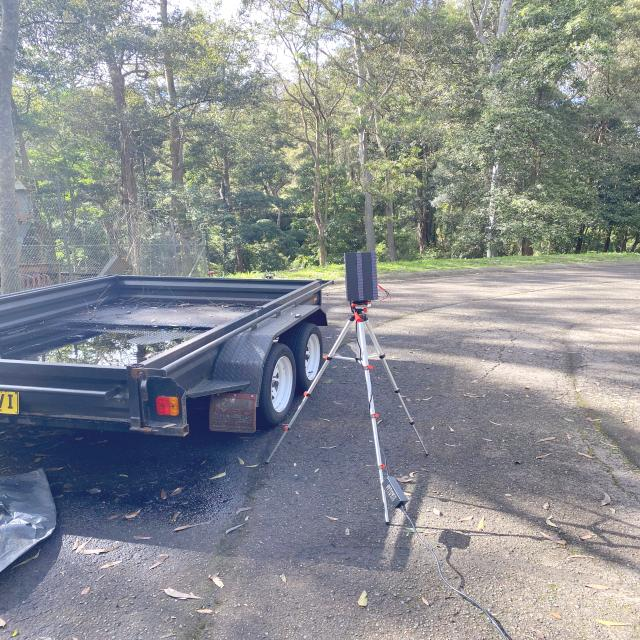matrix: (339, 249, 384, 304)
